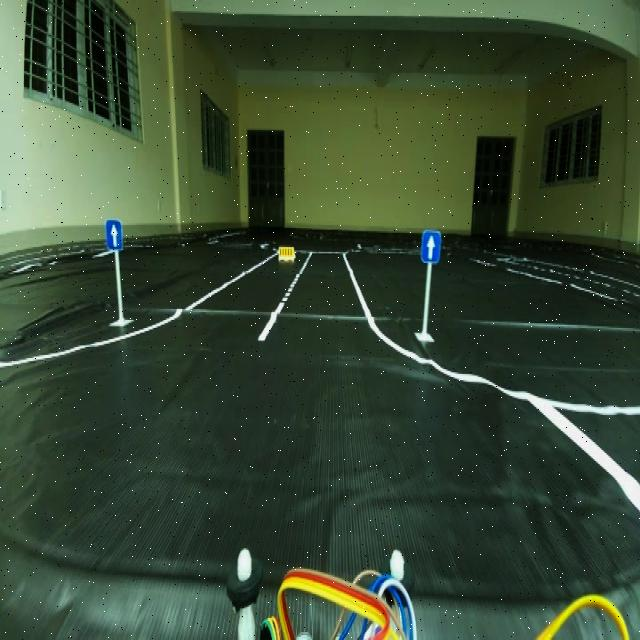onewayroad: (416, 220, 444, 279), (99, 216, 122, 253)
roadblock: (279, 250, 297, 266)
